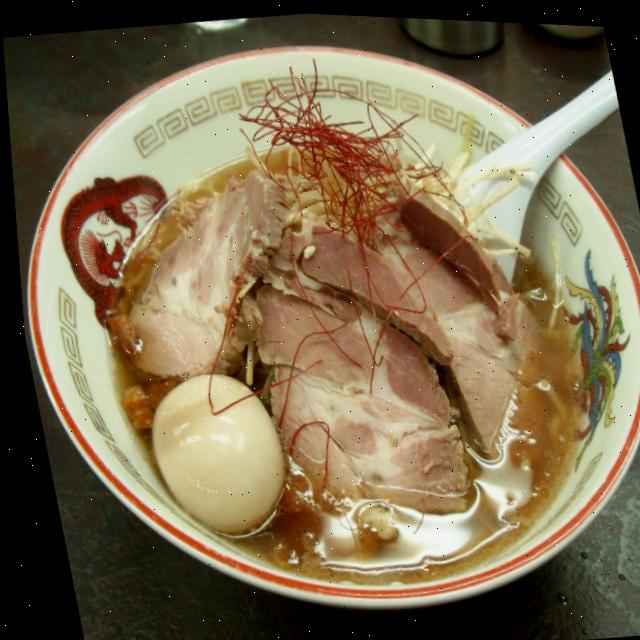面条主食: (63, 37, 615, 617)
